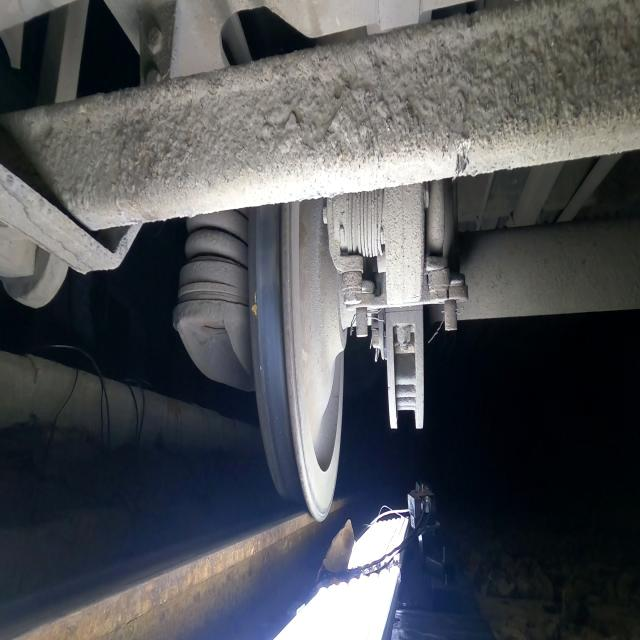Cracks-Scratches: (251, 288, 260, 320)
Shelling: (255, 208, 280, 284)
Wheel: (249, 198, 346, 520)
